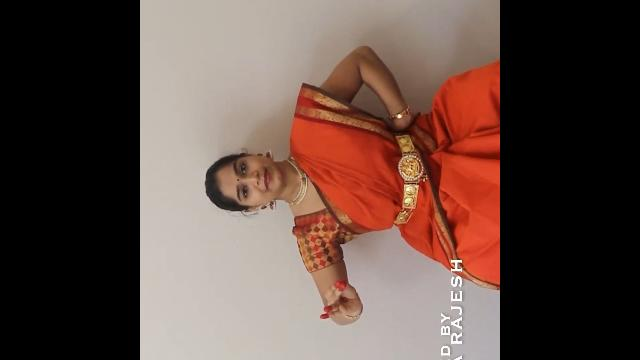katak: (316, 254, 400, 342)
